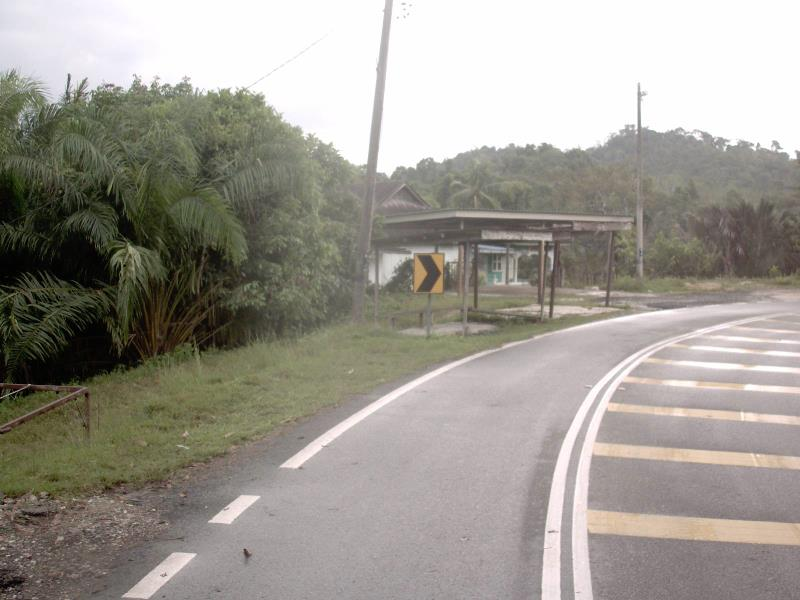traffic_sign: (402, 245, 449, 303)
